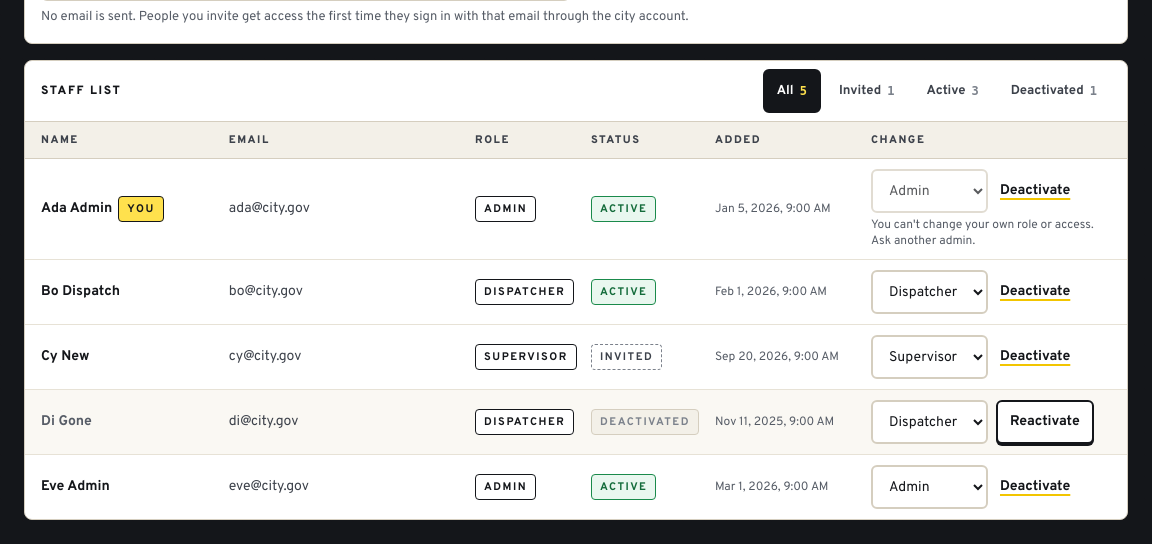
changing access › explains cannot_change_own_access
(page scrolled)
Step 1. Click the button "Deactivate" in the row of "Eve Admin" → {"x": 1035, "y": 487}, box [996,465,1074,509]
(page scrolled)
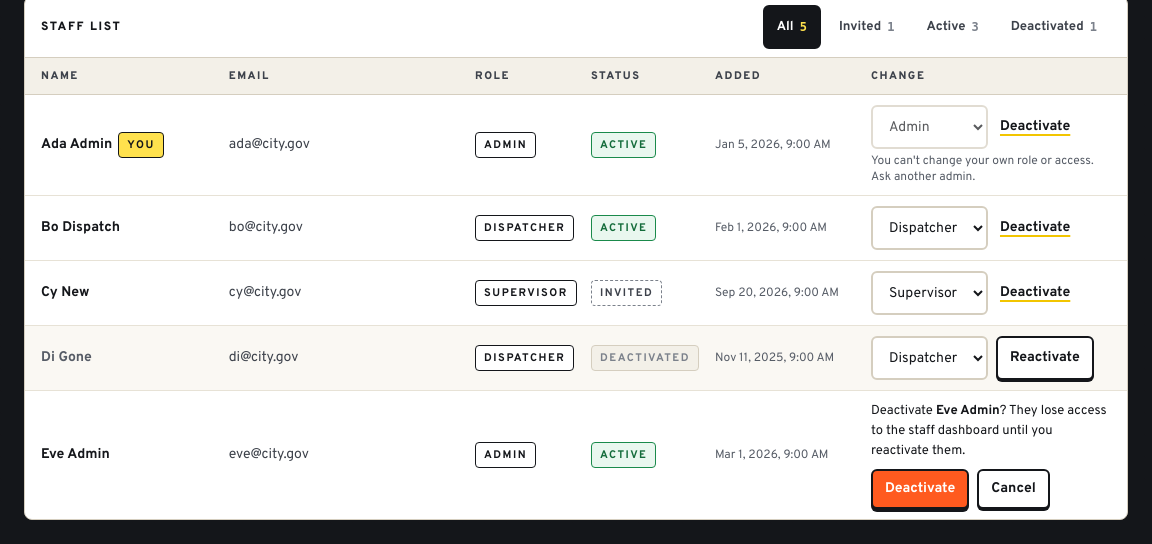
Step 2. Click the button "Deactivate" below "Mar 1, 2026, 9:00 AM" → {"x": 920, "y": 489}, box [871,469,969,509]
(page scrolled)
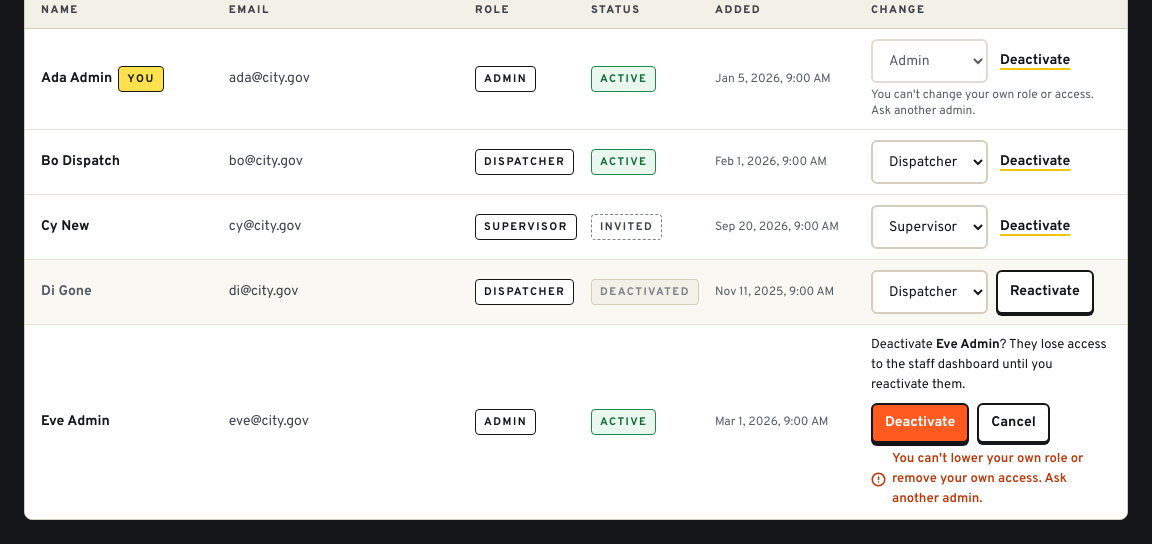
Now the text "You can't lower your own role or remove your own access" is shown, box [892,451,1083,507]
